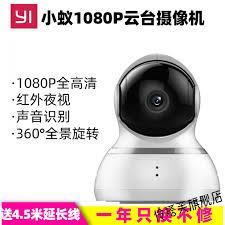maru: (107, 44, 206, 153)
